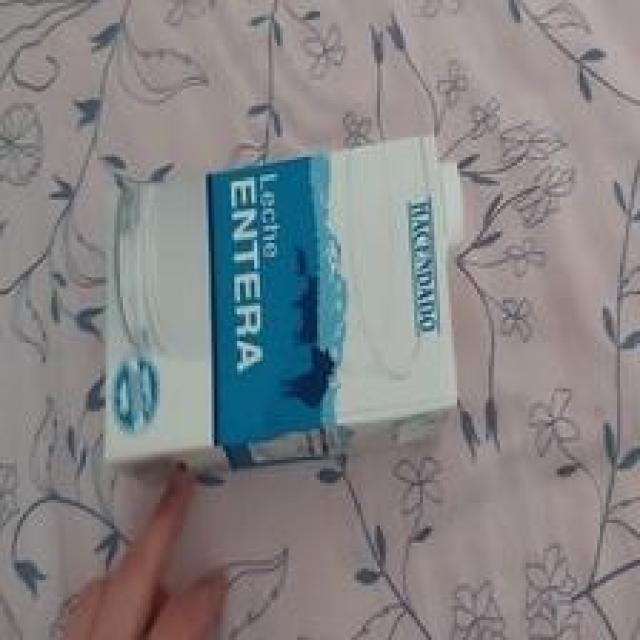Carton: (104, 135, 466, 498)
